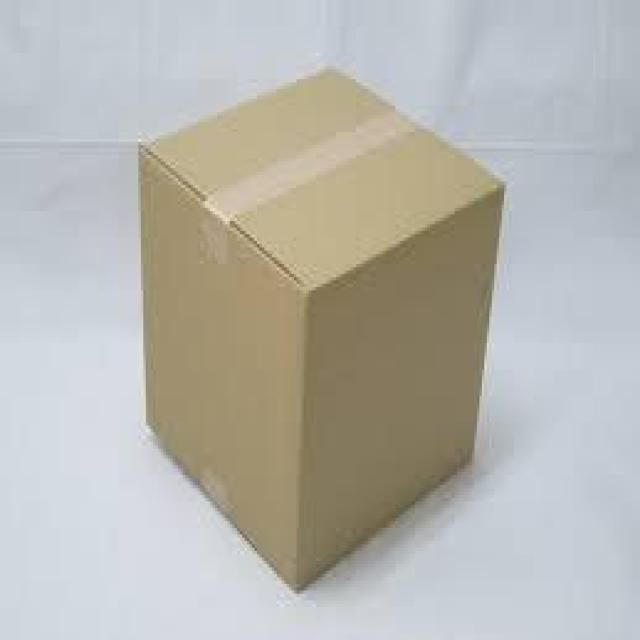box: (141, 62, 507, 594)
